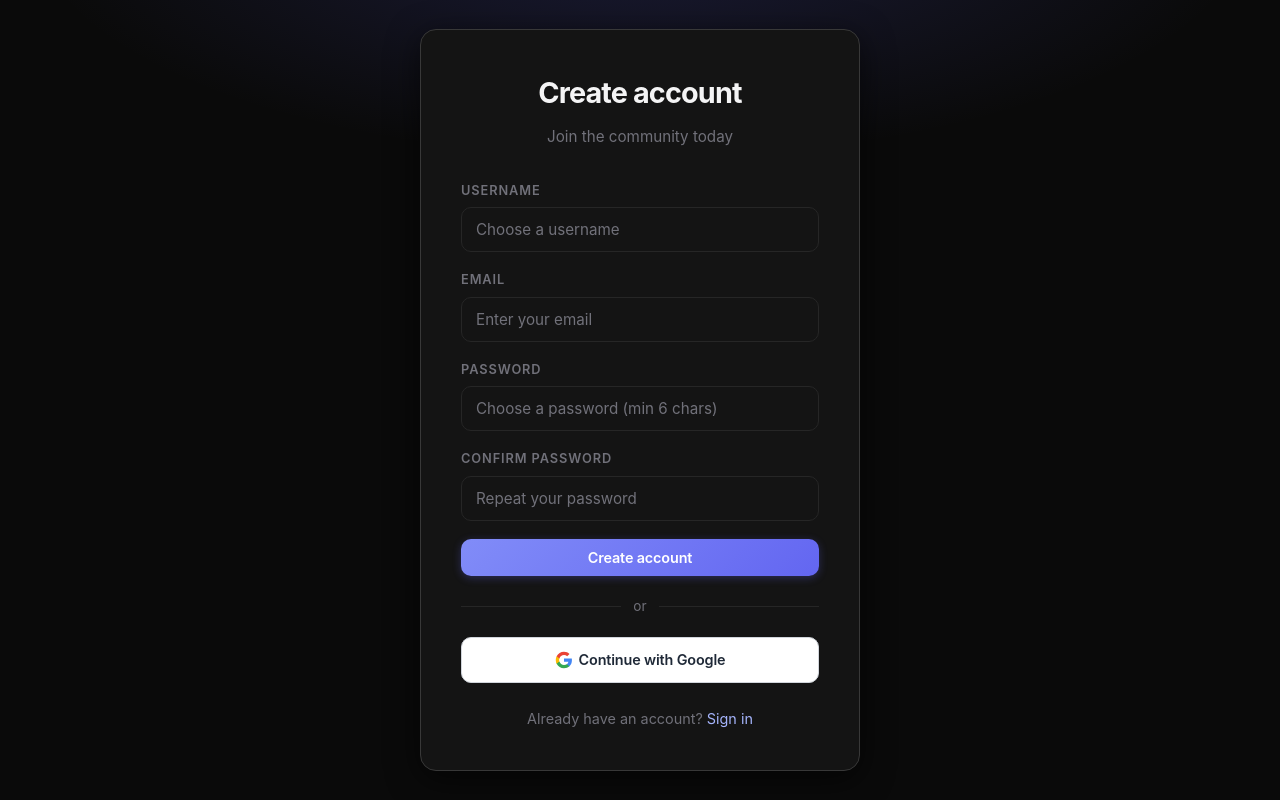
Test: RegisterPage › Client-side validation › shows error when username contains invalid characters
The width and height of the screenshot is (1280, 800).
Type "user@name!" into the field with placeholder "Choose a username" at (640, 230), box top-left (461, 207), bottom-right (819, 252)
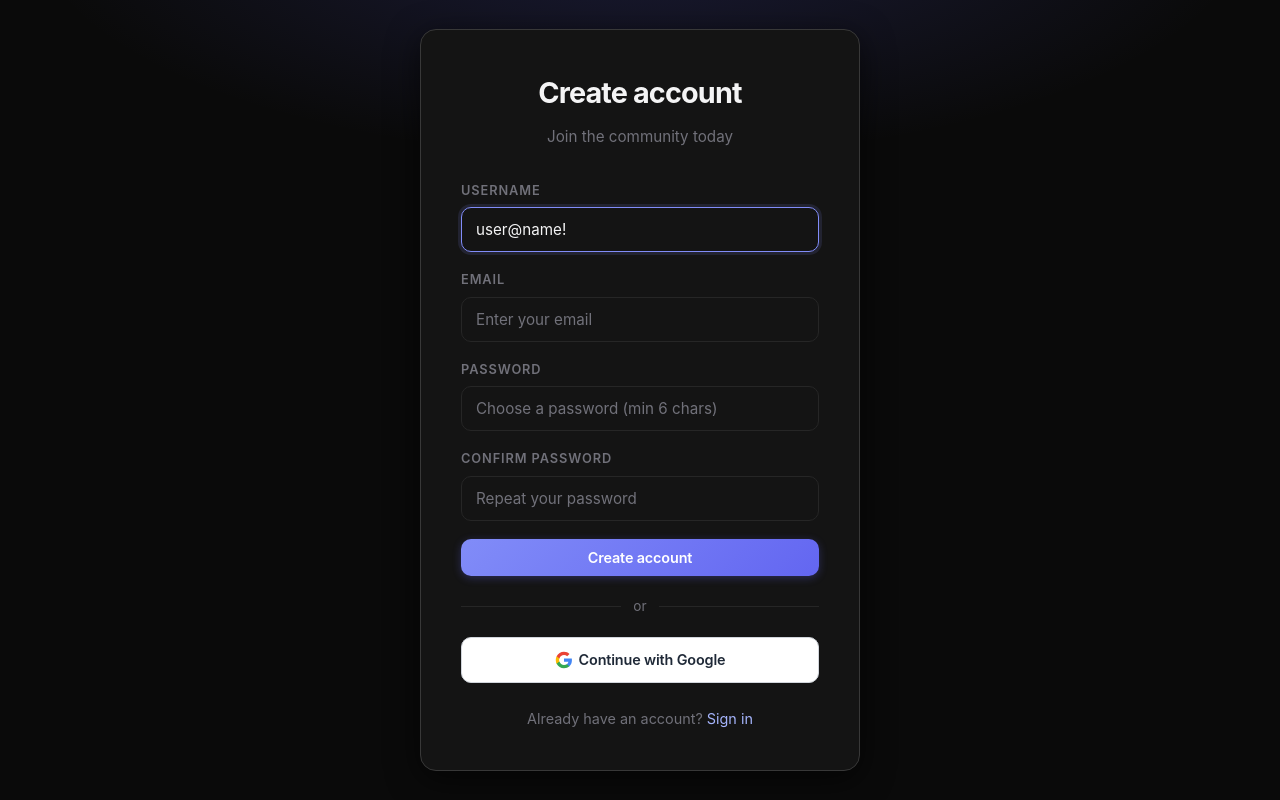
Click the button "Create account" at (640, 557), box top-left (461, 539), bottom-right (819, 576)
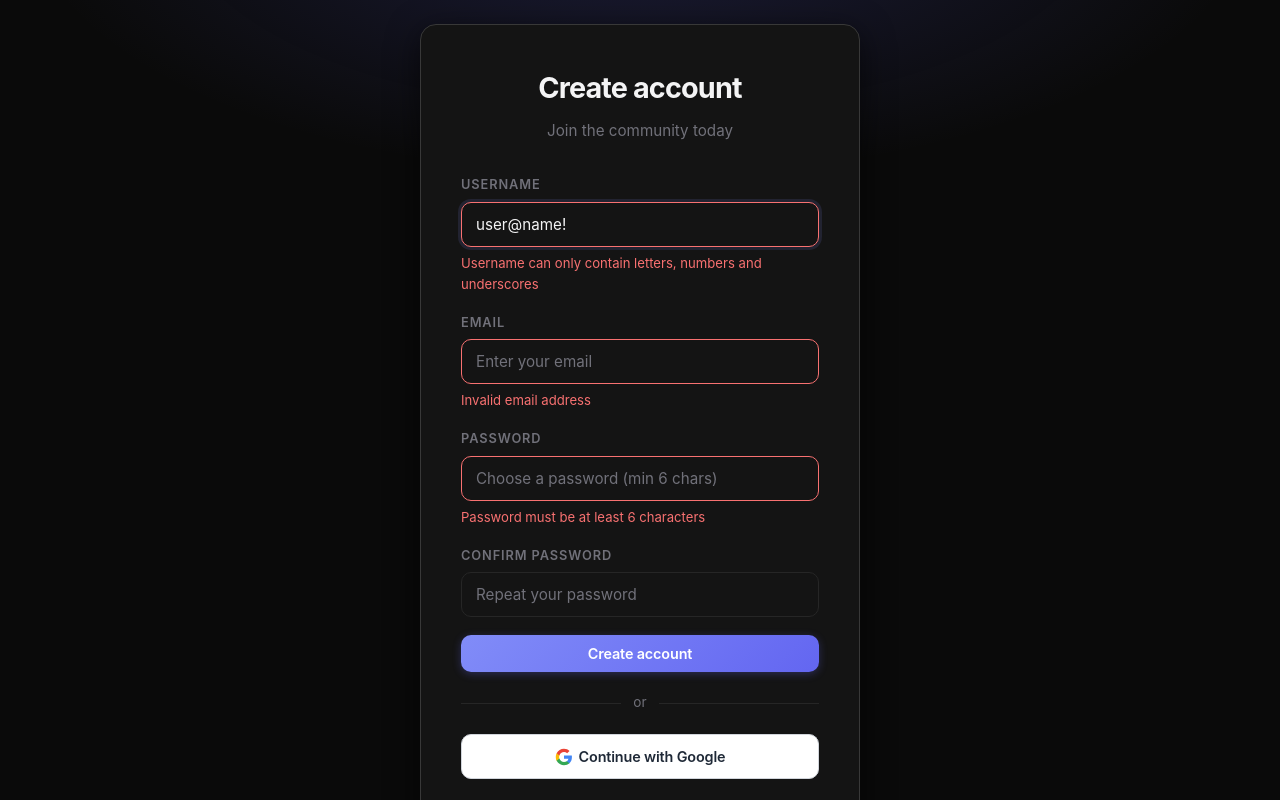
Check: the text "Username can only contain letters, numbers and underscores" is shown, box top-left (461, 255), bottom-right (762, 292)
